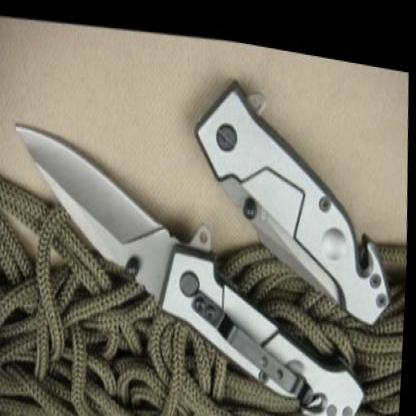knife: (3, 106, 199, 311)
